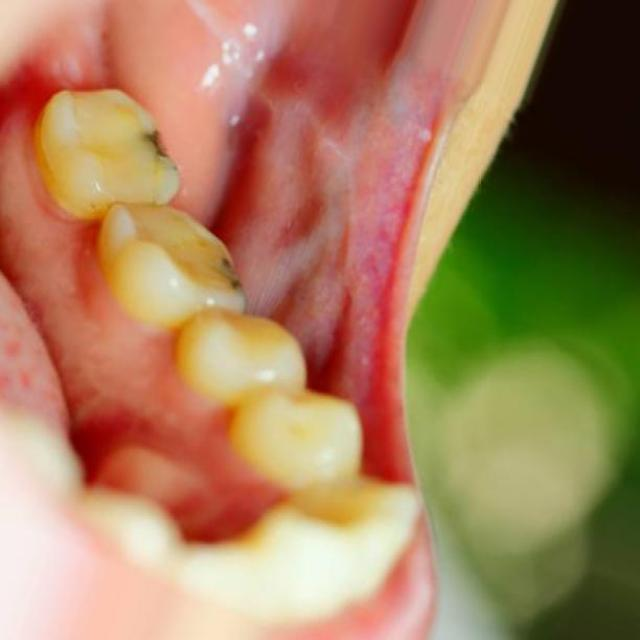caries: (130, 110, 195, 190), (211, 239, 261, 312)
